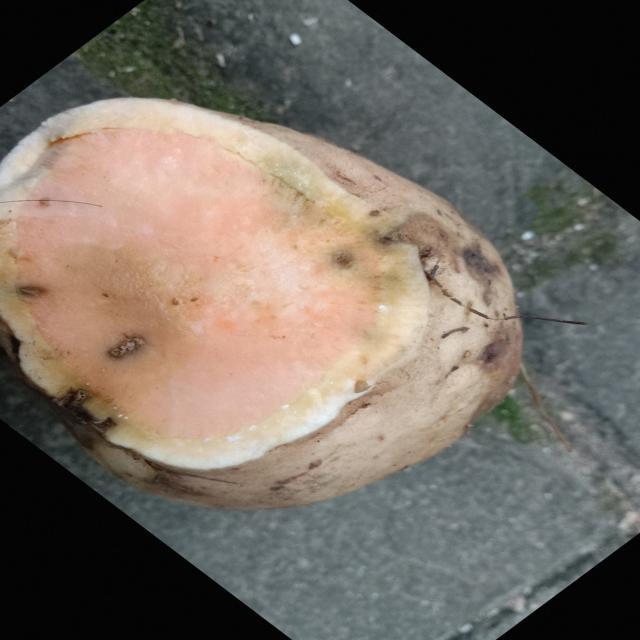Sick Sweet Potato_Tuber Rot: (2, 99, 428, 469)
